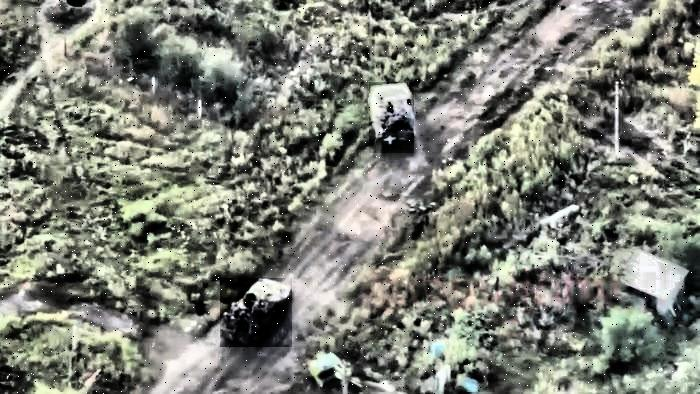military-vehicle: (221, 279, 293, 348), (369, 83, 414, 154)
